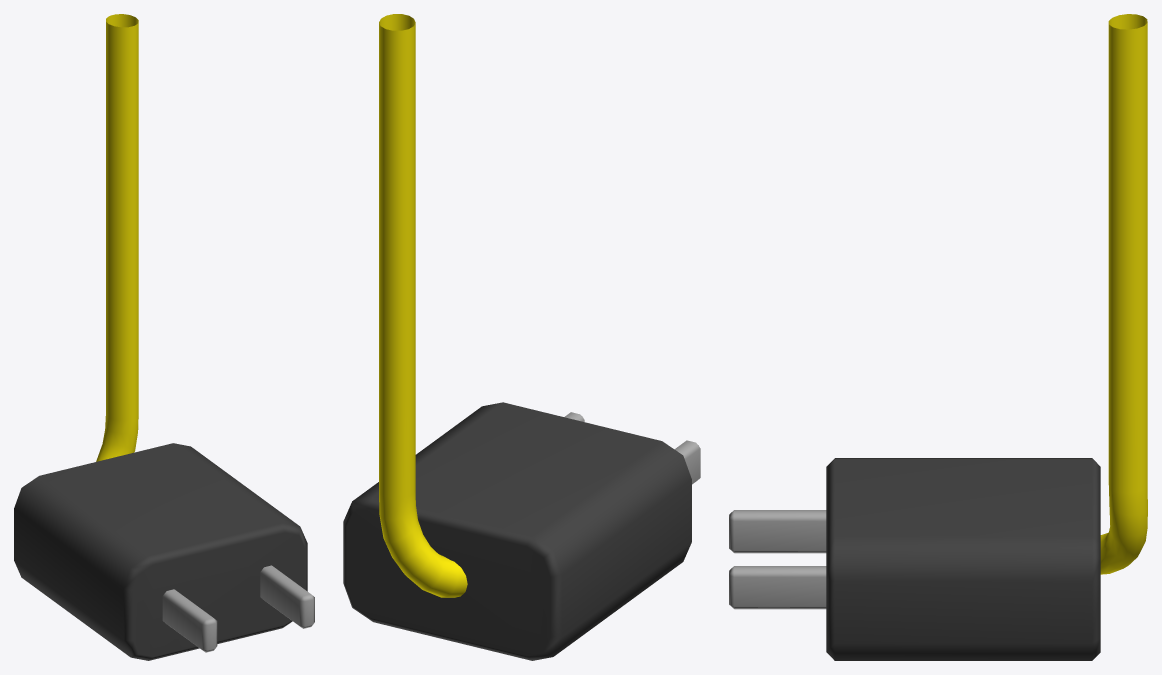
The model's file is Charger.fbx.
3 renders of one model, left to right at view 1: azimuth 30°, elevation 25°; view 2: azimuth 150°, elevation 25°; view 3: azimuth 270°, elevation 25°, orthographic. The views are drawn at different scales.
Parts seen in each view (by area): view 1: Charger; view 2: Charger; view 3: Charger.
Part boxes in pixels (<box>): Charger: <box>14,14,314,660</box>; Charger: <box>343,14,700,660</box>; Charger: <box>729,14,1147,660</box>.
Size of the model in its own units: 0.0104 by 0.0283 by 0.0174.
